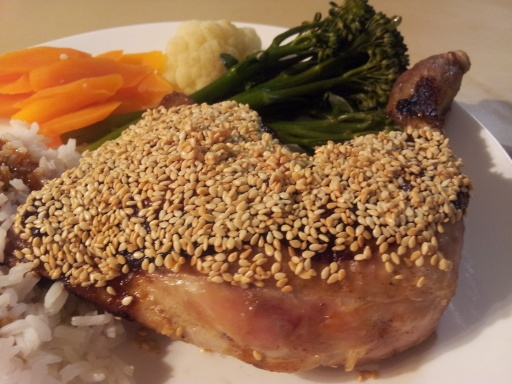background: (0, 0, 380, 230)
